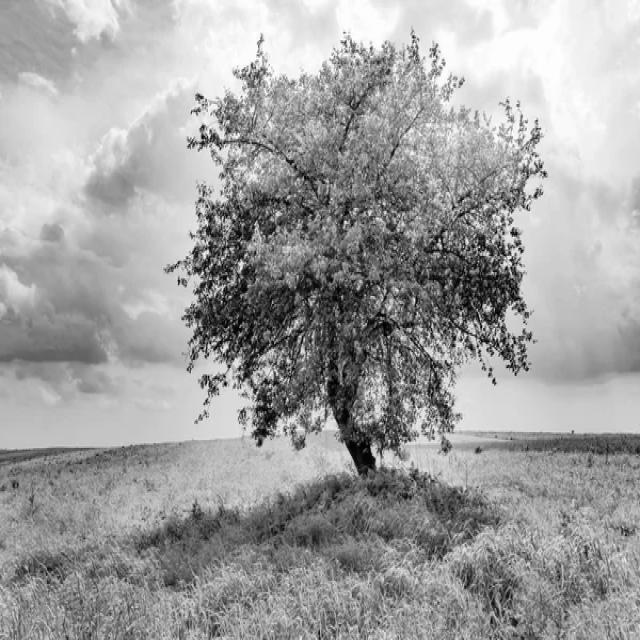Tree: (170, 36, 546, 474)
